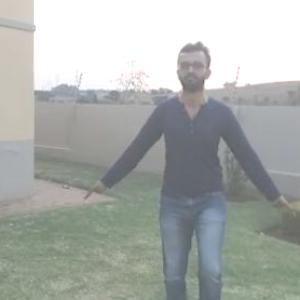land: (104, 47, 289, 288)
